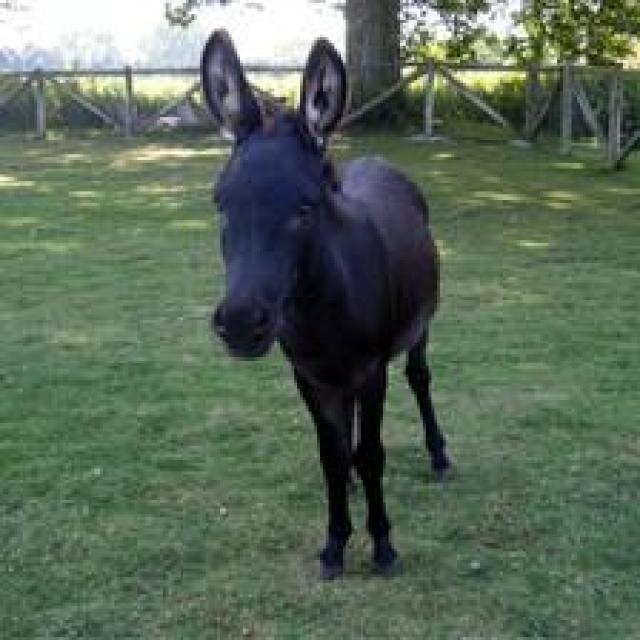Donkey: (197, 26, 452, 580)
